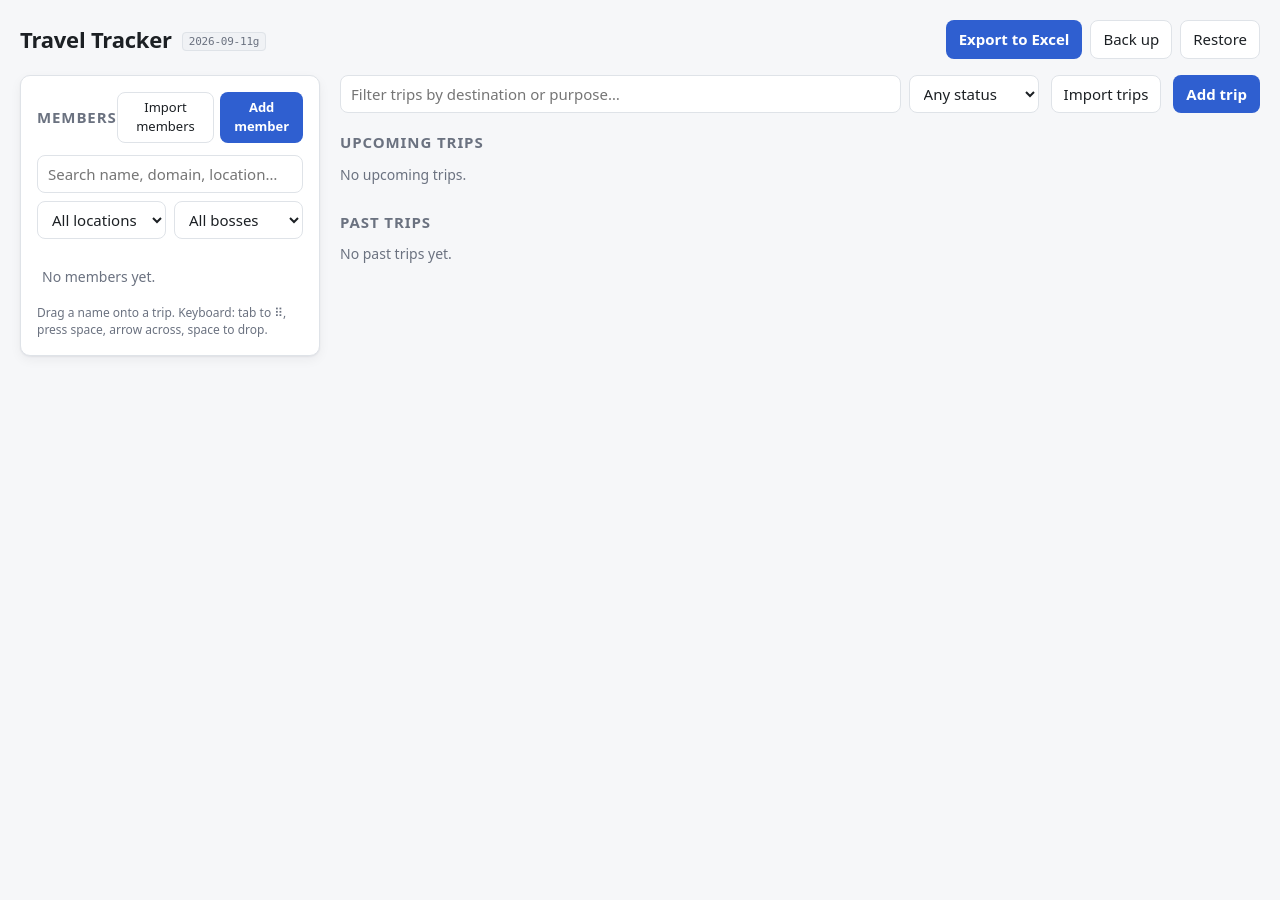
it: Confirmed and tentative panels › both panels are always shown, so either can be dropped into
Click the button "Add trip".
click(1217, 94)  # box [1173, 74, 1260, 113]
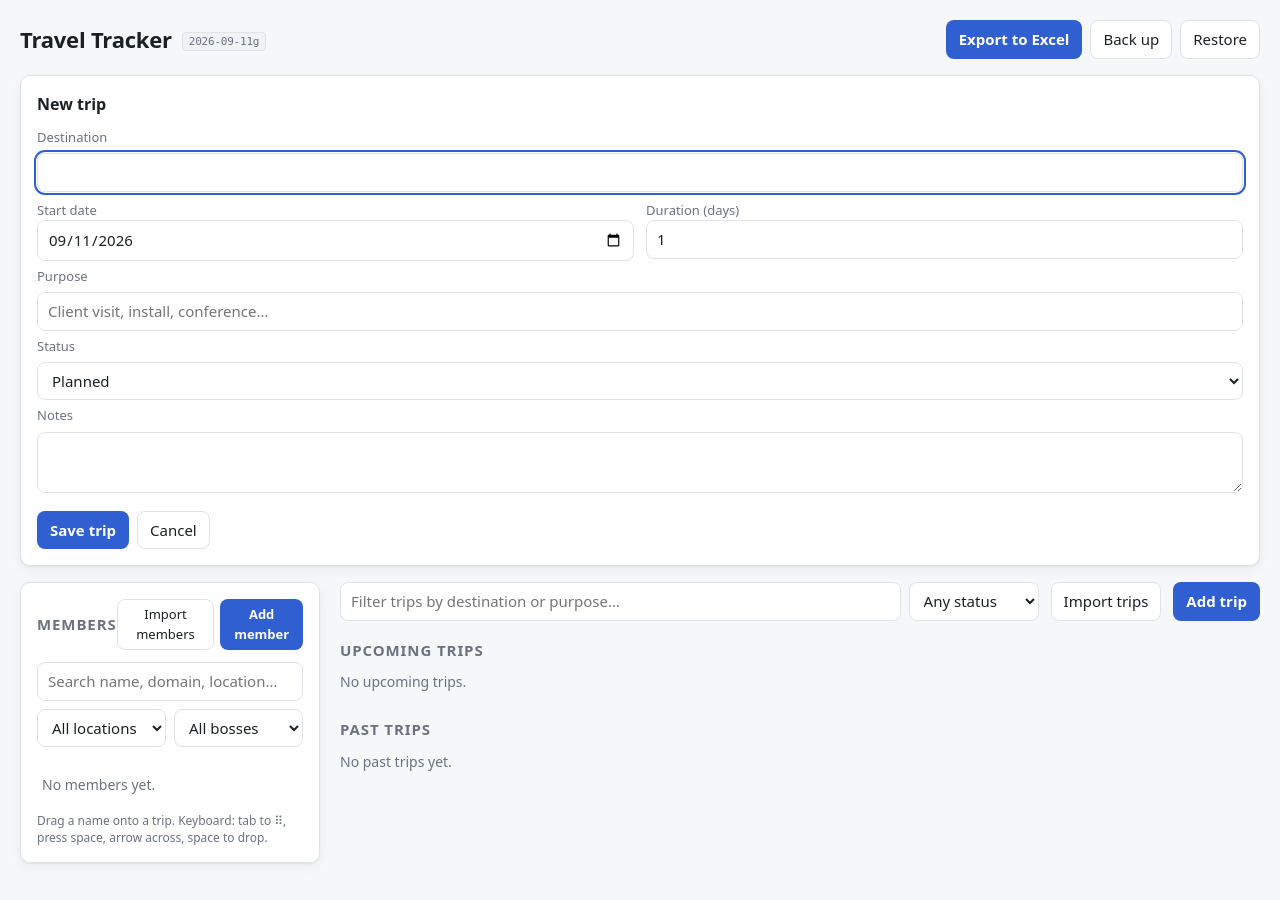
Type "Tokyo" into the field labelled "Destination".
click(640, 172); type("Tokyo")  # box [37, 153, 1243, 192]
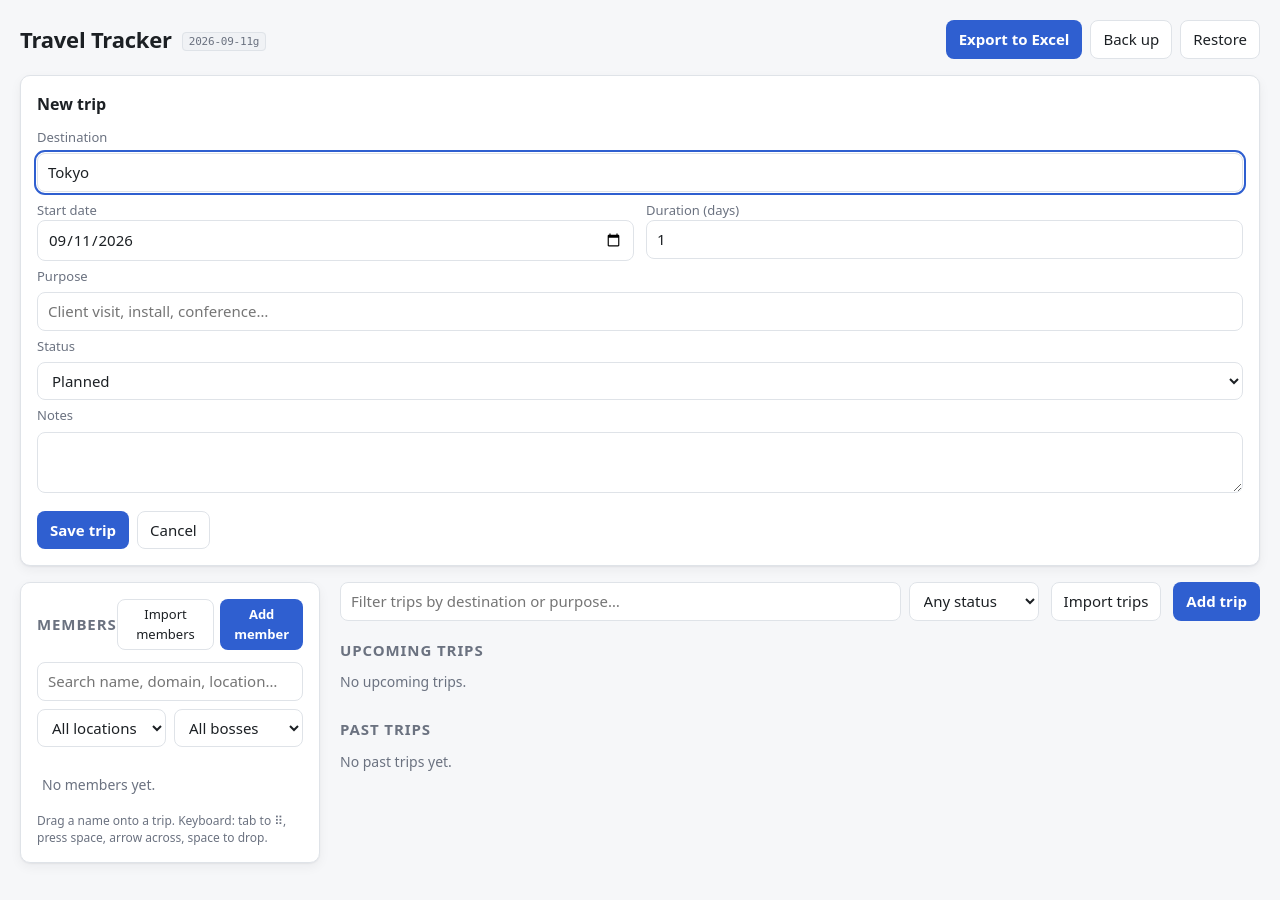
Click the button "Save trip".
click(83, 530)  # box [37, 510, 129, 549]
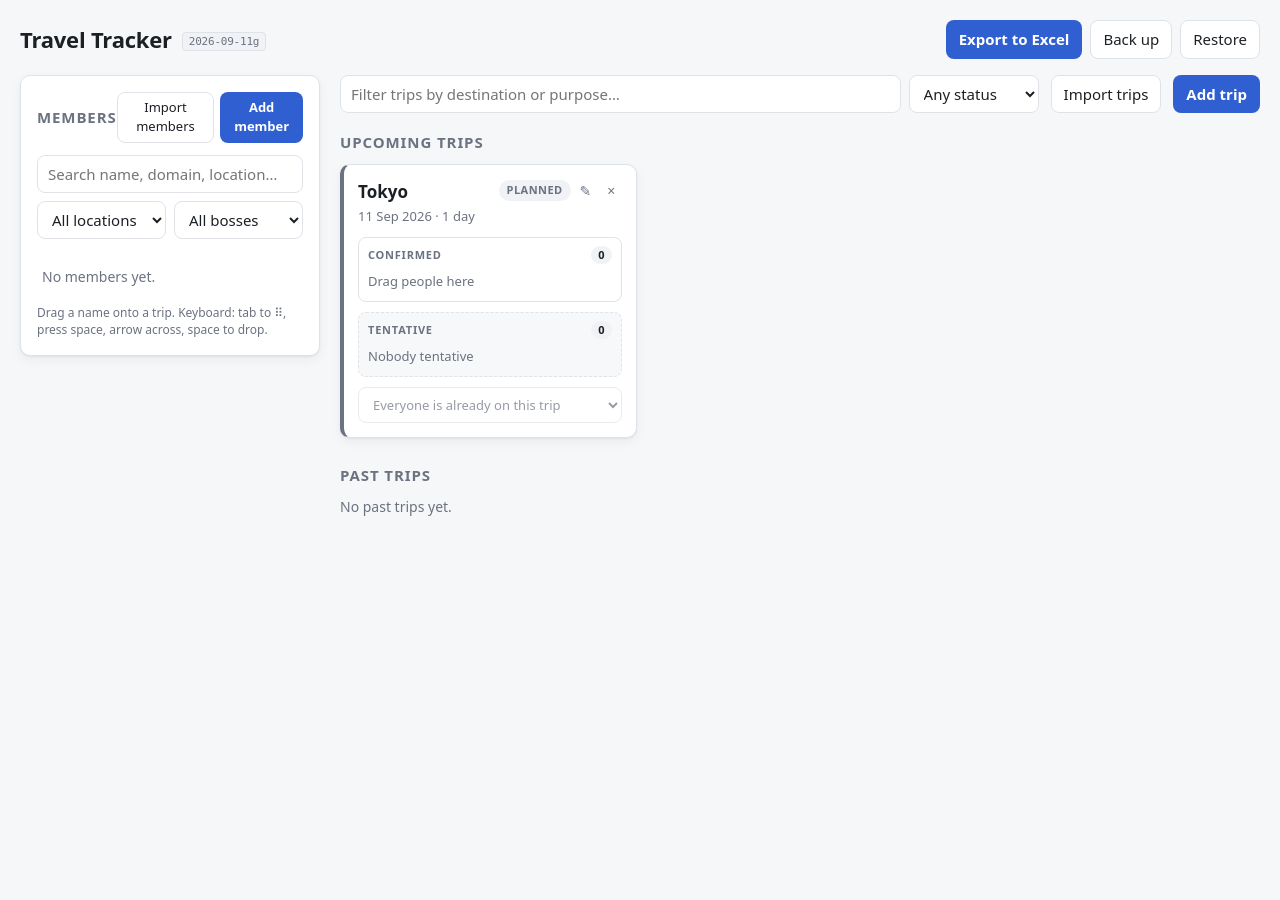
Expected: the element "Confirmed 0 Drag people here" is shown, [358, 236, 622, 302]
Expected: the element "Tentative 0 Nobody tentative" is shown, [358, 312, 622, 376]
